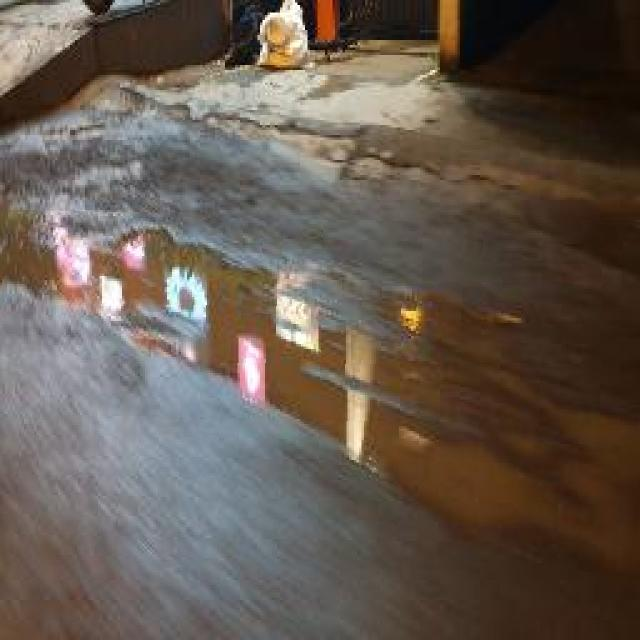puddle: (1, 214, 640, 572)
